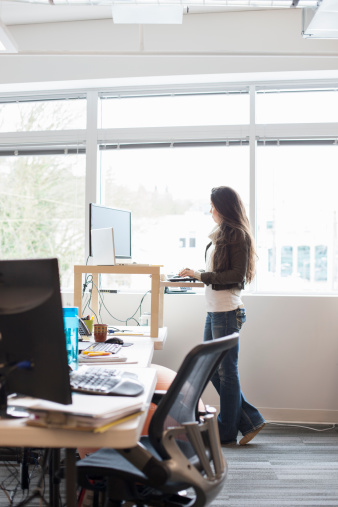em pe: (172, 185, 251, 442)
